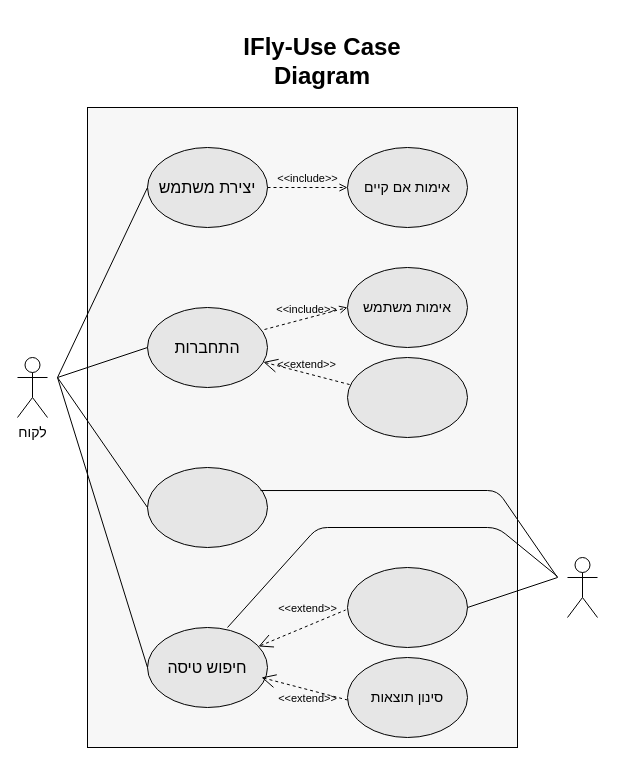
This 634x765 diagram has some shape labels left out. Each missing label, with the centre of its shape:
בחירה מיעדים מוצעים: point (207, 507)
הזמנה ותשלום: point (407, 607)
ספקי טיסות: point (582, 587)
צפייה בזמנה: point (407, 397)
